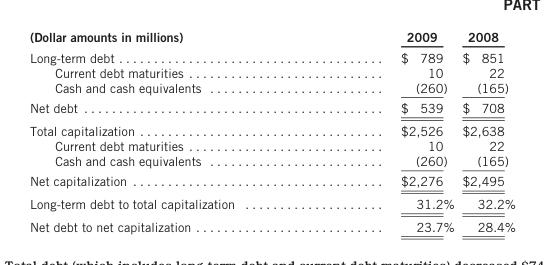table: (28, 29, 514, 233)
table column: (28, 29, 317, 233), (317, 29, 457, 233), (457, 29, 514, 233)
table column header: (28, 29, 514, 46)
table row: (28, 170, 514, 192), (28, 192, 514, 214), (28, 97, 514, 118), (28, 118, 514, 137), (28, 214, 514, 233), (28, 46, 514, 64), (28, 79, 514, 97), (28, 152, 514, 170), (28, 29, 514, 46), (28, 64, 514, 79), (28, 137, 514, 152)
